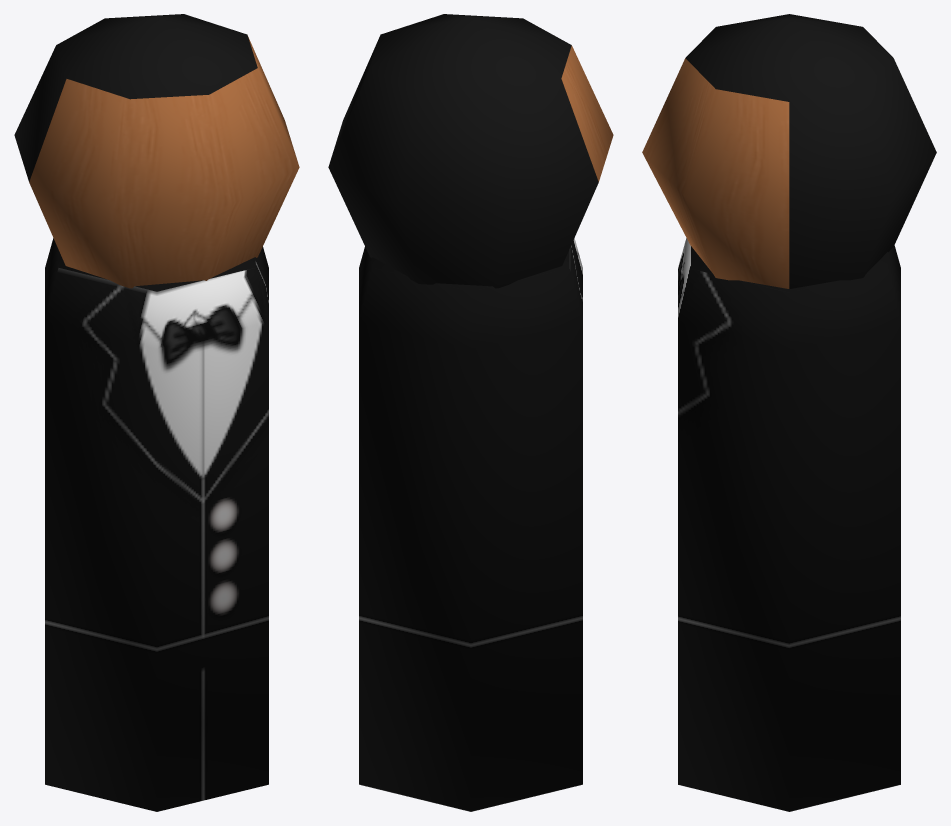
File: Groom_A.FBX
3 views of the same model, side by side, from view 1: azimuth 30°, elevation 25°; view 2: azimuth 150°, elevation 25°; view 3: azimuth 270°, elevation 25° (orthographic).
Parts seen in each view (by area): view 1: Groom; view 2: Groom; view 3: Groom.
Boxes of the visible parts, left/top/right/bottom form: Groom: left=14, top=14, right=299, bottom=811; Groom: left=328, top=14, right=613, bottom=811; Groom: left=642, top=14, right=936, bottom=811.
Size of the model in its own units: 21.11 by 58.37 by 21.11.
